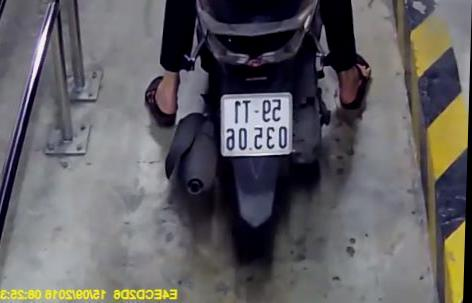License_Plate: (216, 90, 299, 161)
